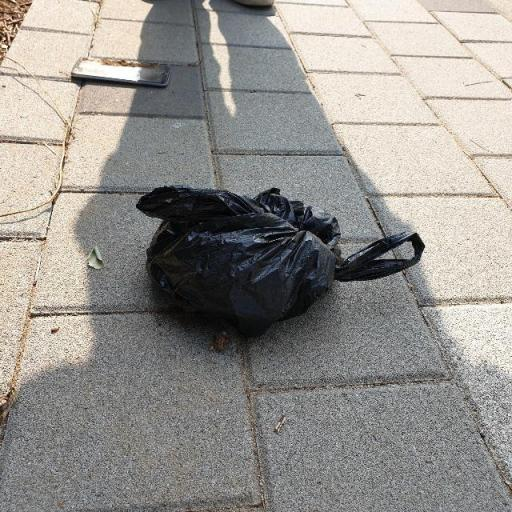plastic-bag: (134, 185, 428, 345)
